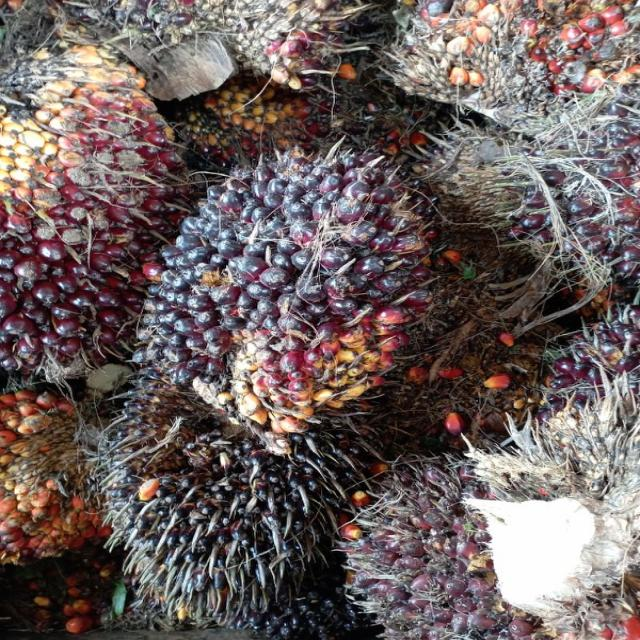fraksi 00: (140, 145, 450, 430), (87, 396, 376, 616)
fraksi 1: (0, 65, 181, 380)
